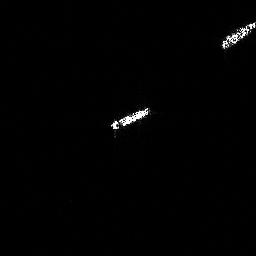ship: (221, 22, 256, 48), (109, 107, 149, 129)
